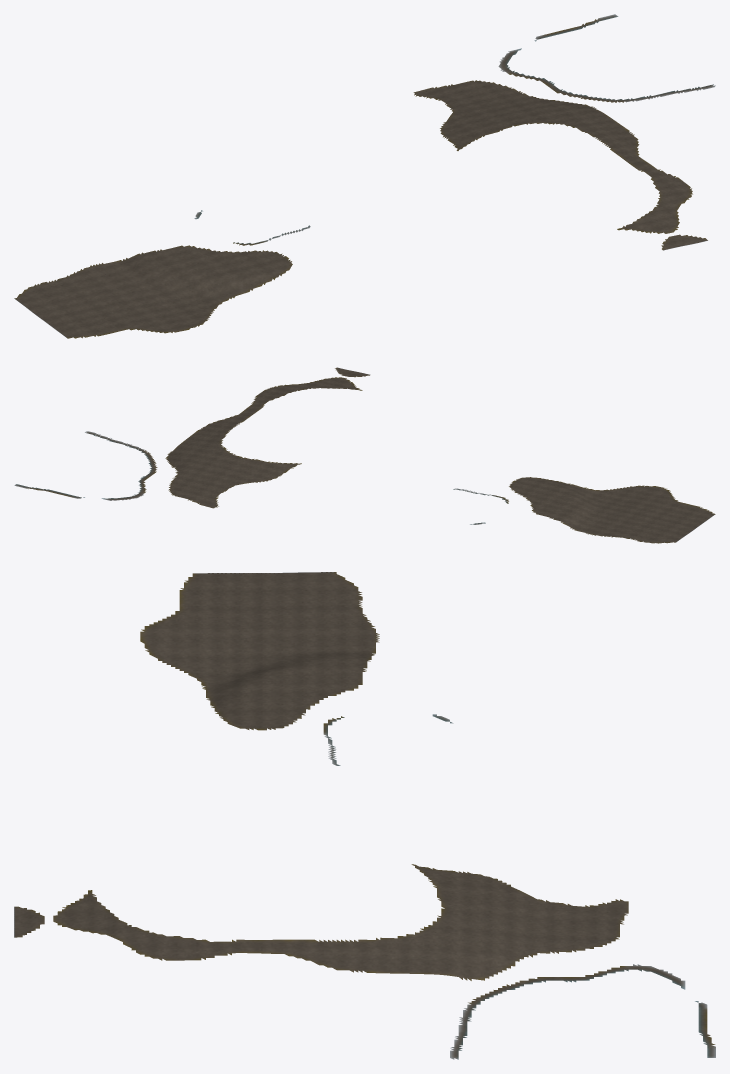
File: mud_visual.dae
3 views of the same model, one above another, from view 1: azimuth 30°, elevation 25°; view 2: azimuth 150°, elevation 25°; view 3: azimuth 270°, elevation 25° (orthographic). The views are drawn at different scales.
Visible parts, largest first — view 1: Terrain; view 2: Terrain; view 3: Terrain.
Part boxes in pixels (x1,y1,x2,y2): Terrain: (14, 14, 715, 338); Terrain: (14, 367, 715, 543); Terrain: (14, 572, 715, 1059).
Bounding box in the file's own units: 660 × 402 × 14.96.
1 material, 1 textured.
